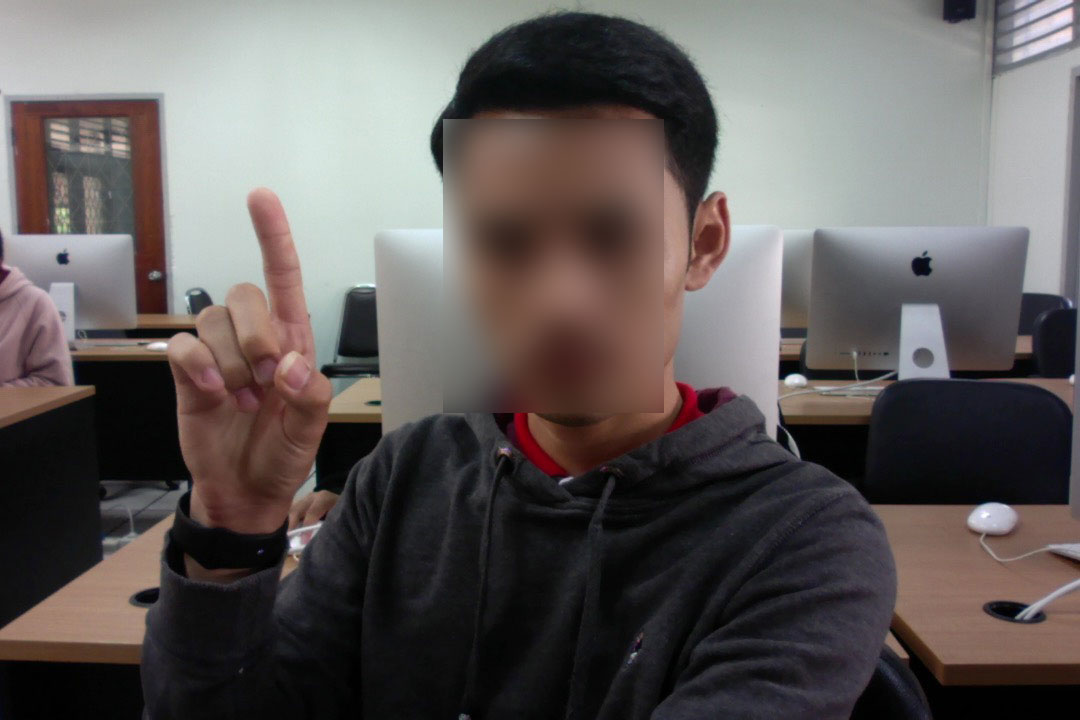dor: (162, 185, 338, 526)
